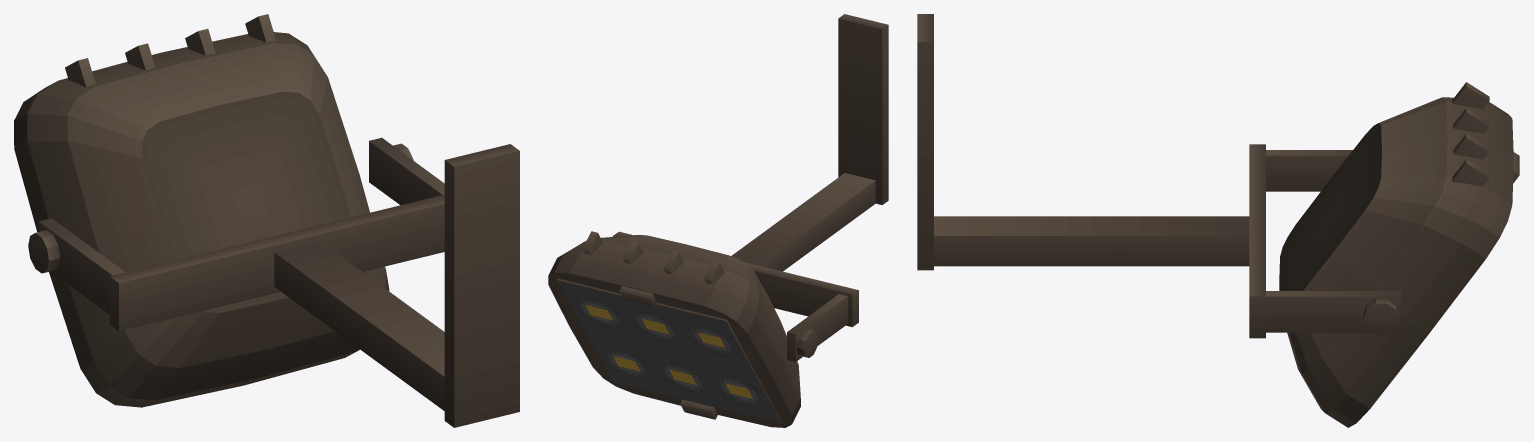
Rendered from floodlight_lithtflyk_x.obj.
The picture shows the model from 3 angles, left to right: view 1: azimuth 30°, elevation 25°; view 2: azimuth 150°, elevation 25°; view 3: azimuth 270°, elevation 25°; orthographic projection. The views are drawn at different scales.
Visible parts, largest first — view 1: fixture; view 2: fixture; view 3: fixture.
Part boxes in pixels (x1,y1,x2,y2): fixture: [14, 14, 519, 427]; fixture: [548, 14, 888, 427]; fixture: [917, 14, 1519, 427].
Size of the model in its own units: 0.6964 by 0.7413 by 1.13.
